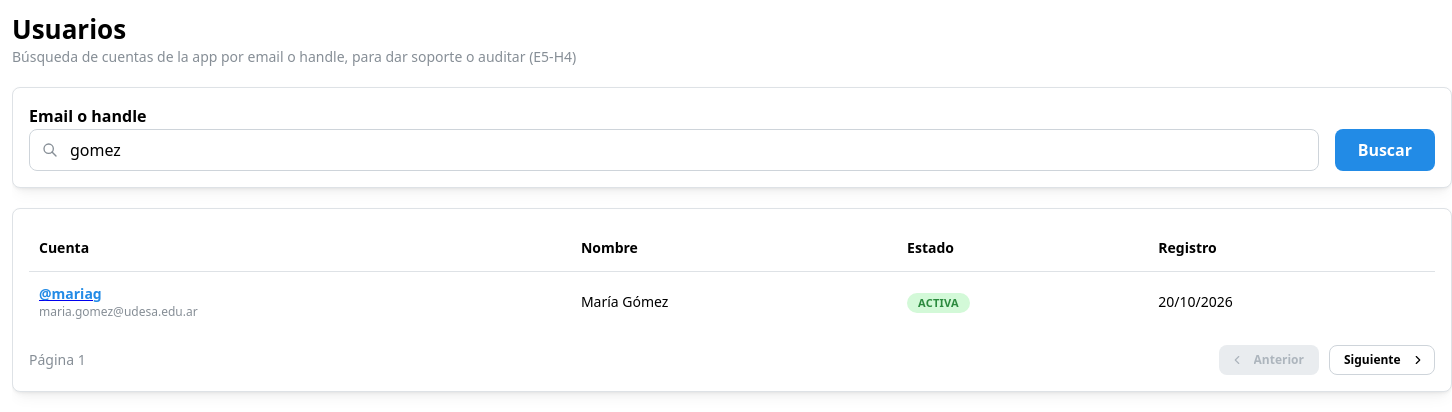
Scenario: AccountSearchPage › E5-H4.CA3 - the next page sends the cursor, and the previous one goes back to the first page
This screenshot has width=1452, height=412.
Expected: the text "@mariag" is shown, [39,284,102,303]
Click the button "Siguiente": (1382, 360) [1329,345,1435,375]
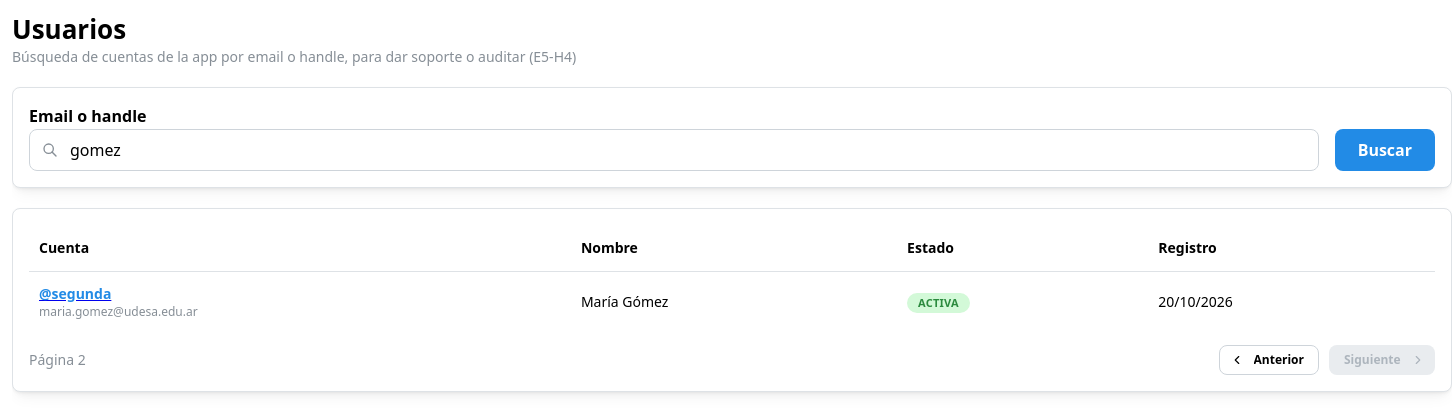
Expected: the text "@segunda" is shown, [39,284,111,303]
Expected: the text "Página 2" is shown, [29,350,86,370]
Expected: the button "Siguiente" is disabled, [1329,345,1435,375]
Click the button "Anterior": (1269, 360) [1219,345,1319,375]
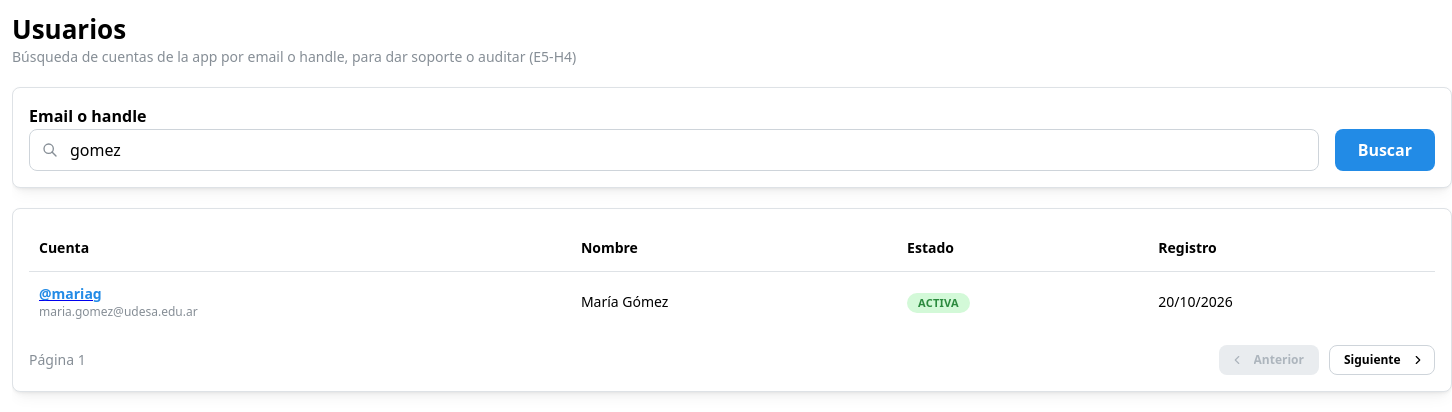
Expected: the text "@mariag" is shown, [39,284,102,303]
Expected: the text "Página 1" is shown, [29,350,86,370]
Expected: the button "Anterior" is disabled, [1219,345,1319,375]
